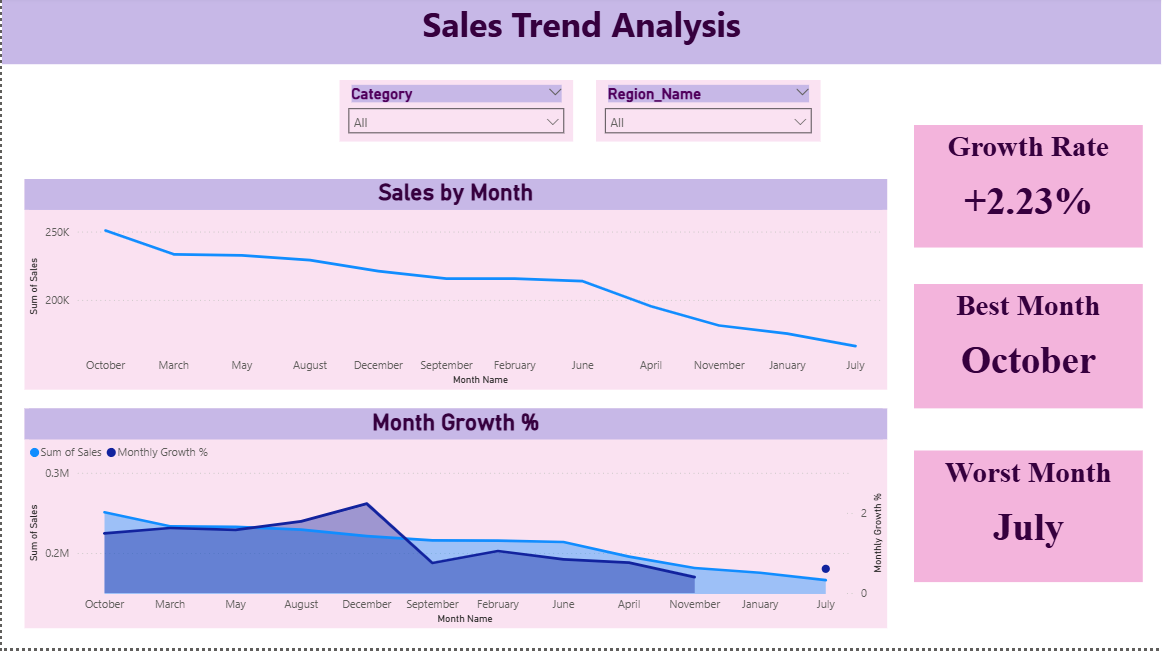

The page's visual inventory and layout, read from the dashboard file:
{"tool":"powerbi","page":{"name":"Sales Trend Analysis","canvas":[1280,720],"ordinal":3},"visuals":[{"type":"areaChart","title":"Month Growth %","fields":{"Category":["Dim_Date.Month Name"],"Y":["Sum(Fact_Sales.Sales)"],"Y2":["Fact_Sales.Monthly Growth %"]},"box":[25,455,952.5,242.5],"z":0},{"type":"slicer","fields":{"Values":["Dim_Product.Category"]},"box":[372.8,92.9,258,68],"z":1000},{"type":"slicer","fields":{"Values":["Dim_Region.Region_Name"]},"box":[656.8,92.9,248,68],"z":2000},{"type":"textbox","box":[1007.5,317.5,252.5,137.5],"z":3000},{"type":"textbox","box":[1007.5,502.5,252.5,145],"z":4000},{"type":"lineChart","title":"Sales by Month ","fields":{"Category":["Dim_Date.Month Name"],"Y":["Sum(Fact_Sales.Sales)"]},"box":[25,202.5,952.5,232.5],"z":5000},{"type":"textbox","box":[1007.5,142.5,252.5,135],"z":5001},{"type":"textbox","box":[0,0,1280,75],"z":5002}]}

Visuals, with their boxes in screenshot pixels (x1, y1, x2, y2), scaled from the page's 1280x720 canvas onto the 1162x654 screenshot:
"Month Growth %" areaChart: 23/413/887/634
slicer - Dim_Product.Category: 338/84/573/146
slicer - Dim_Region.Region_Name: 596/84/821/146
textbox: 915/288/1144/413
textbox: 915/456/1144/588
"Sales by Month " lineChart: 23/184/887/395
textbox: 915/129/1144/252
textbox: 0/0/1161/68
